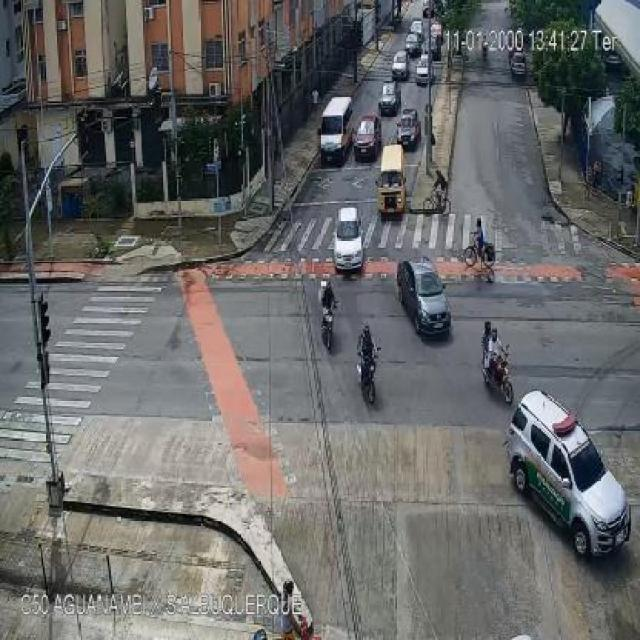Bus: (376, 144, 406, 214)
Car: (506, 387, 631, 559), (396, 259, 452, 336), (333, 209, 364, 273), (353, 114, 381, 160), (395, 109, 421, 149), (378, 82, 400, 114), (415, 54, 434, 84), (510, 50, 528, 79), (392, 51, 409, 80), (405, 32, 423, 57)
Cycle: (482, 355, 514, 403), (358, 348, 382, 406), (464, 231, 496, 268), (424, 184, 452, 216), (320, 305, 338, 349)
Van: (320, 96, 356, 165)
